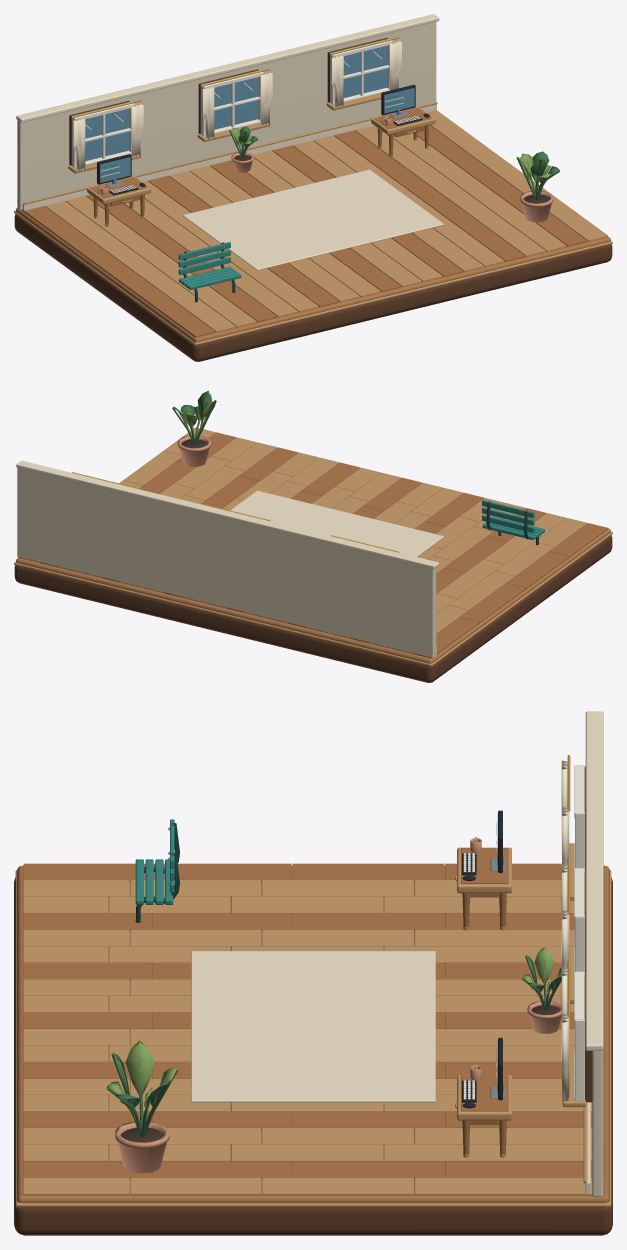
Rendered from office.glb.
3 renders of one model, top to bottom at view 1: azimuth 30°, elevation 25°; view 2: azimuth 150°, elevation 25°; view 3: azimuth 270°, elevation 25°, orthographic. The views are drawn at different scales.
Parts seen in each view (by area): view 1: Crafted_wood_light, Crafted_wood, Crafted_cream, Crafted_plaster, Crafted_edge, Crafted_blue, Crafted_white, Crafted_teal, Crafted_ceramic, Crafted_leaf, Crafted_ink, Crafted_brass (+1 smaller); view 2: Crafted_plaster, Crafted_wood_light, Crafted_wood, Crafted_edge, Crafted_cream, Crafted_teal, Crafted_leaf, Crafted_ceramic; view 3: Crafted_wood_light, Crafted_wood, Crafted_cream, Crafted_edge, Crafted_white, Crafted_ceramic, Crafted_lightleaf, Crafted_leaf, Crafted_teal, Crafted_plaster, Crafted_ink, Crafted_brass.
Boxes of the visible parts, x1,y1,x2,y2 form: Crafted_wood_light: [14, 93, 612, 345]; Crafted_wood: [16, 108, 610, 342]; Crafted_cream: [16, 14, 443, 270]; Crafted_plaster: [17, 22, 436, 210]; Crafted_edge: [14, 38, 612, 361]; Crafted_blue: [85, 45, 414, 182]; Crafted_white: [71, 38, 420, 193]; Crafted_teal: [103, 95, 401, 289]; Crafted_ceramic: [97, 116, 553, 222]; Crafted_leaf: [229, 126, 559, 200]; Crafted_ink: [97, 84, 429, 195]; Crafted_brass: [72, 37, 428, 226]; Crafted_plaster: [17, 468, 436, 658]; Crafted_wood_light: [14, 427, 612, 666]; Crafted_wood: [16, 432, 610, 663]; Crafted_edge: [14, 535, 612, 682]; Crafted_cream: [16, 460, 443, 653]; Crafted_teal: [482, 500, 544, 540]; Crafted_leaf: [172, 390, 216, 444]; Crafted_ceramic: [177, 435, 211, 467]; Crafted_wood_light: [15, 843, 611, 1207]; Crafted_wood: [17, 848, 609, 1203]; Crafted_cream: [191, 711, 603, 1194]; Crafted_edge: [14, 766, 612, 1235]; Crafted_white: [463, 765, 584, 1100]; Crafted_ceramic: [115, 837, 561, 1173]; Crafted_lightleaf: [107, 947, 561, 1109]; Crafted_leaf: [106, 948, 561, 1136]; Crafted_teal: [135, 819, 496, 1071]; Crafted_plaster: [592, 1050, 603, 1196]; Crafted_ink: [462, 810, 502, 1108]; Crafted_brass: [455, 755, 570, 1157].
Size of the model in its own units: 13 by 3.49 by 9.8.
